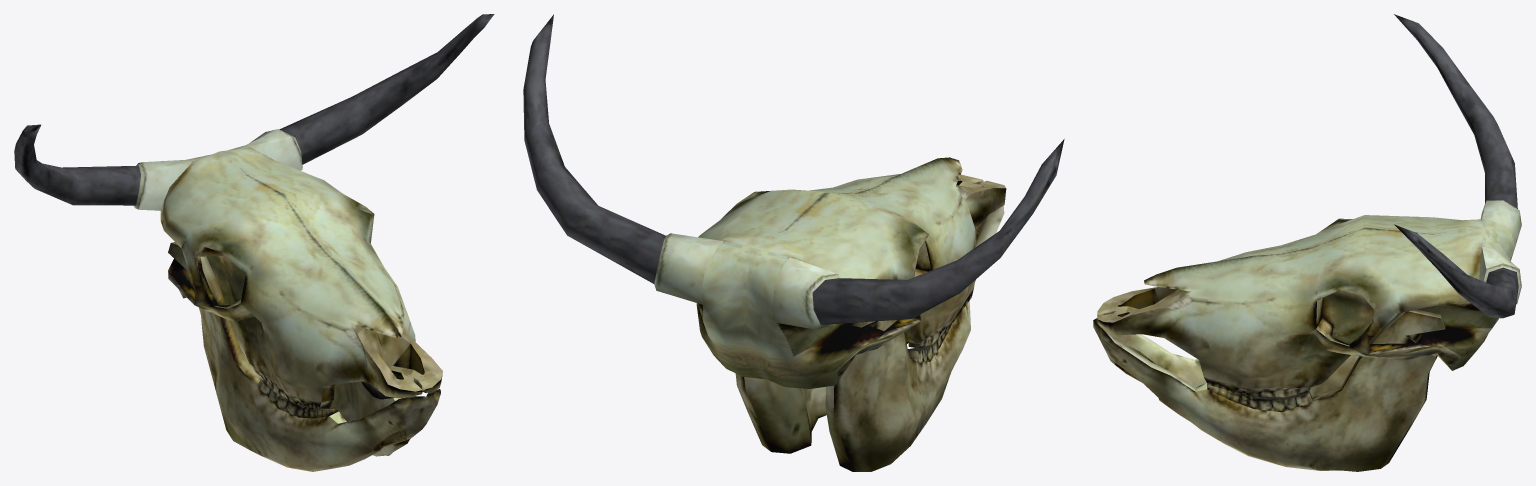
File: object_7_lev2.glb
3 renders of one model, left to right at view 1: azimuth 30°, elevation 25°; view 2: azimuth 150°, elevation 25°; view 3: azimuth 270°, elevation 25°, orthographic. The views are drawn at different scales.
Parts seen in each view (by area): view 1: object_7_lev2; view 2: object_7_lev2; view 3: object_7_lev2.
Boxes of the visible parts, x1,y1,x2,y2 form: object_7_lev2: (14,14,494,471); object_7_lev2: (523,14,1064,471); object_7_lev2: (1093,14,1521,471).
Bounding box in the file's own units: 0.7207 × 0.5192 × 0.6031.
Materials: 1 (1 with a texture image).
